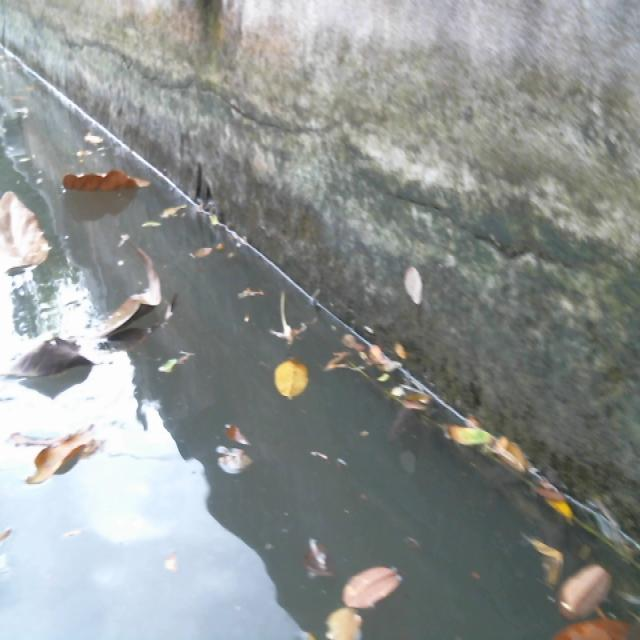Big-leaf: (0, 231, 180, 395), (0, 428, 106, 490), (0, 178, 52, 283), (52, 158, 154, 199)
Small-leaf: (518, 527, 577, 612), (346, 563, 414, 615), (270, 345, 325, 409), (558, 554, 616, 613), (216, 443, 271, 491), (322, 601, 381, 640), (559, 613, 632, 640), (498, 438, 542, 482), (451, 423, 489, 463), (192, 239, 235, 270), (367, 337, 398, 378), (85, 120, 115, 155), (220, 421, 244, 446)
